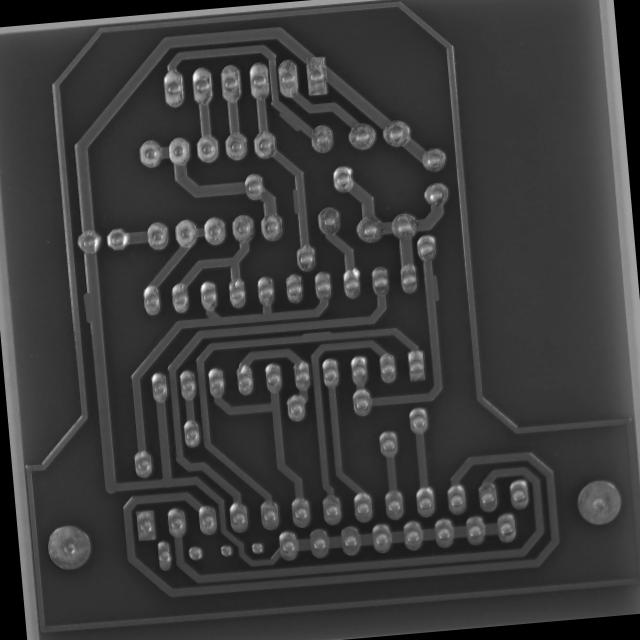spur: (77, 282, 109, 328), (272, 107, 306, 136), (420, 270, 445, 306), (284, 184, 306, 218), (296, 326, 336, 344)
